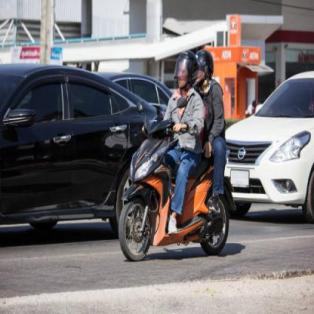Motocicleta: (114, 112, 233, 261)
